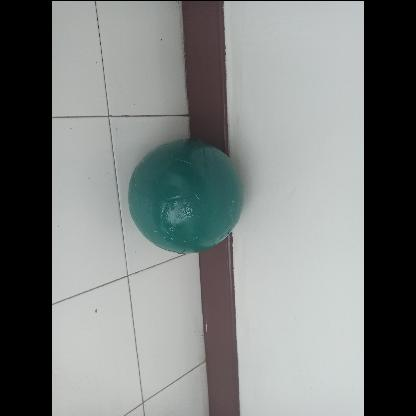green_ball: (130, 138, 244, 254)
